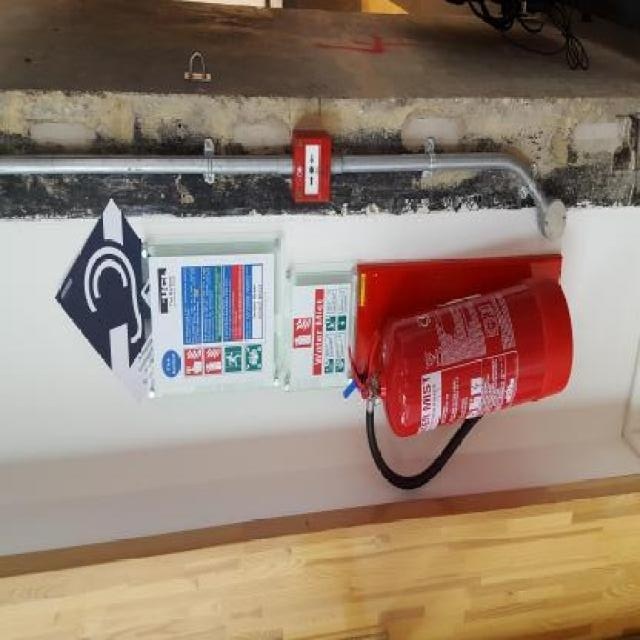fire extinguisher: (351, 274, 572, 491)
